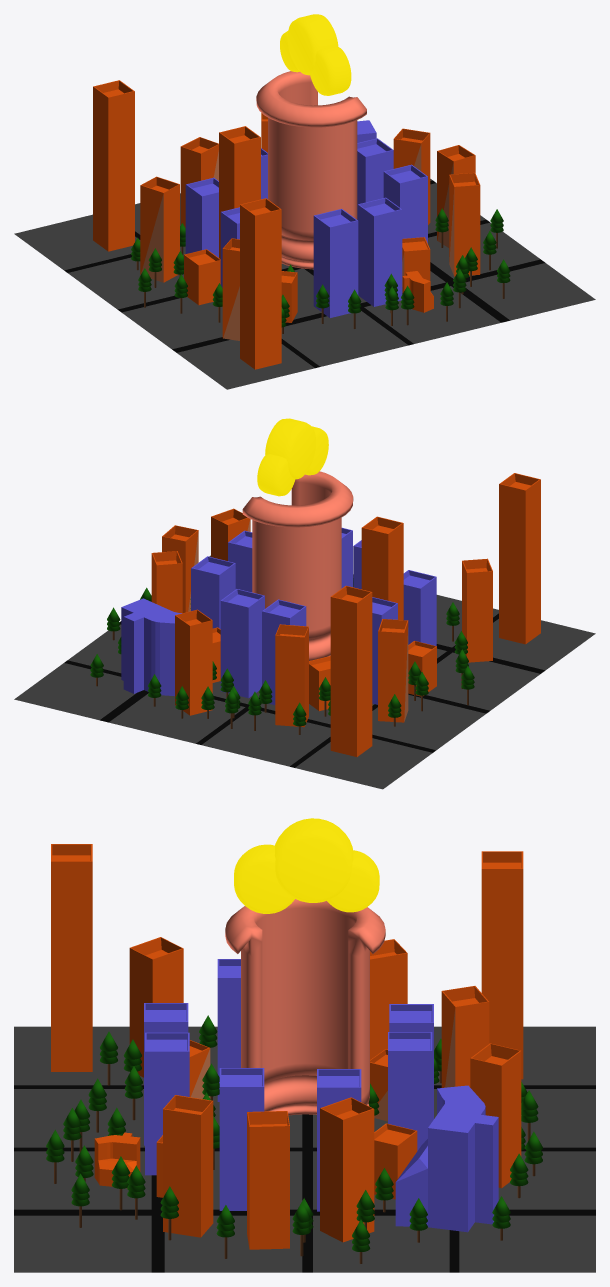
Rendered from Background for build.glb.
3 views of the same model, one above another, from view 1: azimuth 30°, elevation 25°; view 2: azimuth 150°, elevation 25°; view 3: azimuth 270°, elevation 25° (orthographic). The views are drawn at different scales.
Visible parts, largest first — view 1: Cube.001, Plane, Circle, Circle.002; view 2: Cube.001, Plane, Circle, Circle.002; view 3: Cube.001, Plane, Circle, Circle.002.
Boxes of the visible parts, x1=… form: Cube.001: x1=93, y1=80, x2=480, y2=369; Plane: x1=14, y1=179, x2=595, y2=389; Circle: x1=256, y1=71, x2=366, y2=269; Circle.002: x1=280, y1=14, x2=351, y2=95; Cube.001: x1=121, y1=473, x2=540, y2=756; Plane: x1=14, y1=555, x2=595, y2=789; Circle: x1=242, y1=471, x2=353, y2=660; Circle.002: x1=257, y1=418, x2=328, y2=496; Cube.001: x1=51, y1=844, x2=523, y2=1249; Plane: x1=14, y1=1026, x2=595, y2=1272; Circle: x1=225, y1=899, x2=385, y2=1115; Circle.002: x1=234, y1=818, x2=379, y2=913.
Bounding box in the file's own units: 68.55 × 43.58 × 68.55.
